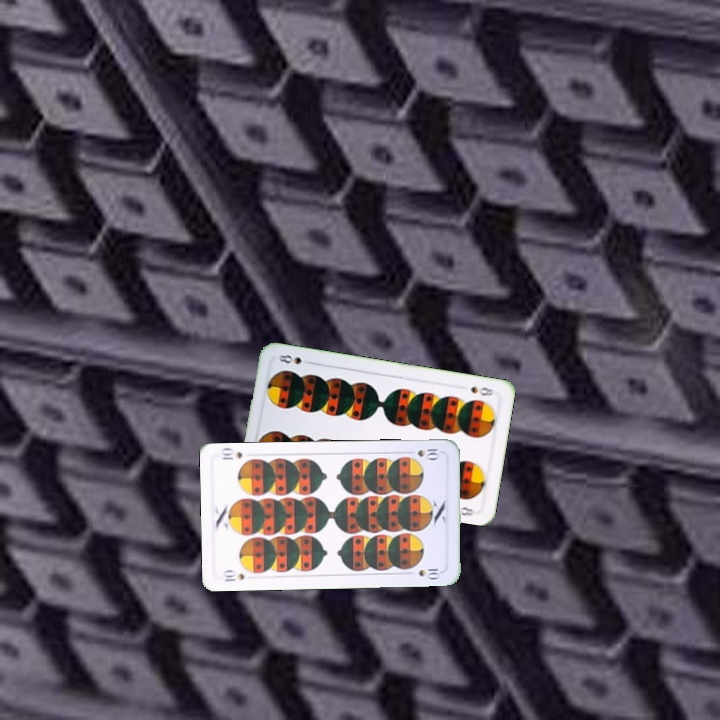S10: (403, 444, 443, 461), (219, 567, 247, 584)
S8: (466, 382, 496, 399)
